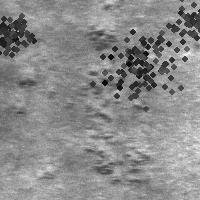rolled-in_scale: (81, 16, 187, 122), (99, 8, 197, 106), (14, 65, 153, 123), (37, 125, 150, 187), (157, 0, 200, 56), (0, 5, 37, 61), (84, 24, 119, 62)
